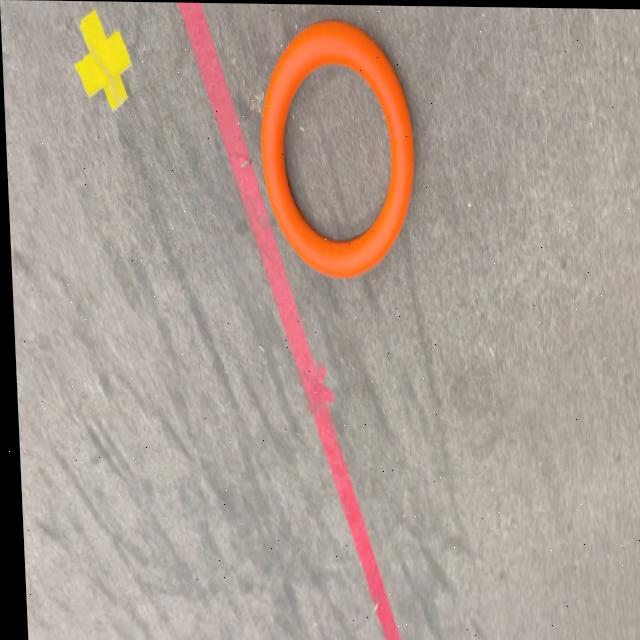note: (255, 20, 416, 276)
